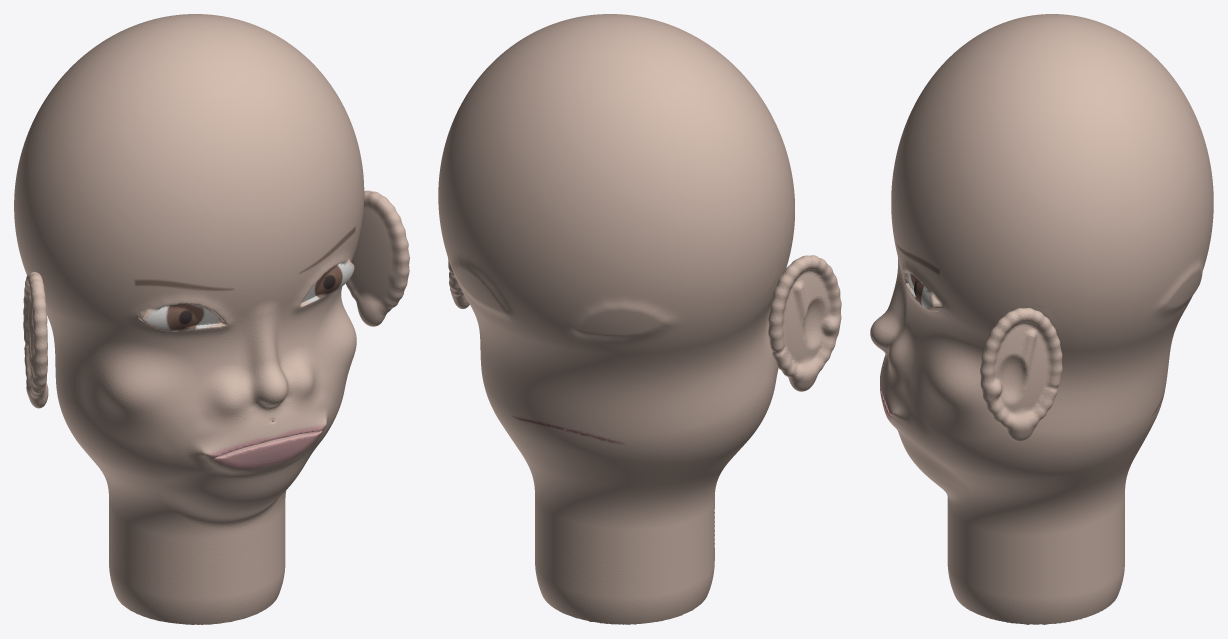
File: karma_face_stage1_T_neutral_EXPERIMENT.glb
3 views of the same model, side by side, from view 1: azimuth 30°, elevation 25°; view 2: azimuth 150°, elevation 25°; view 3: azimuth 270°, elevation 25° (orthographic).
Visible parts, largest first — view 1: head; view 2: head; view 3: head.
Boxes of the visible parts, x1,y1,x2,y2 form: head: (14, 14, 409, 624); head: (438, 14, 841, 624); head: (870, 14, 1213, 624).
Size of the model in its own units: 2.7 by 3.83 by 2.13.
